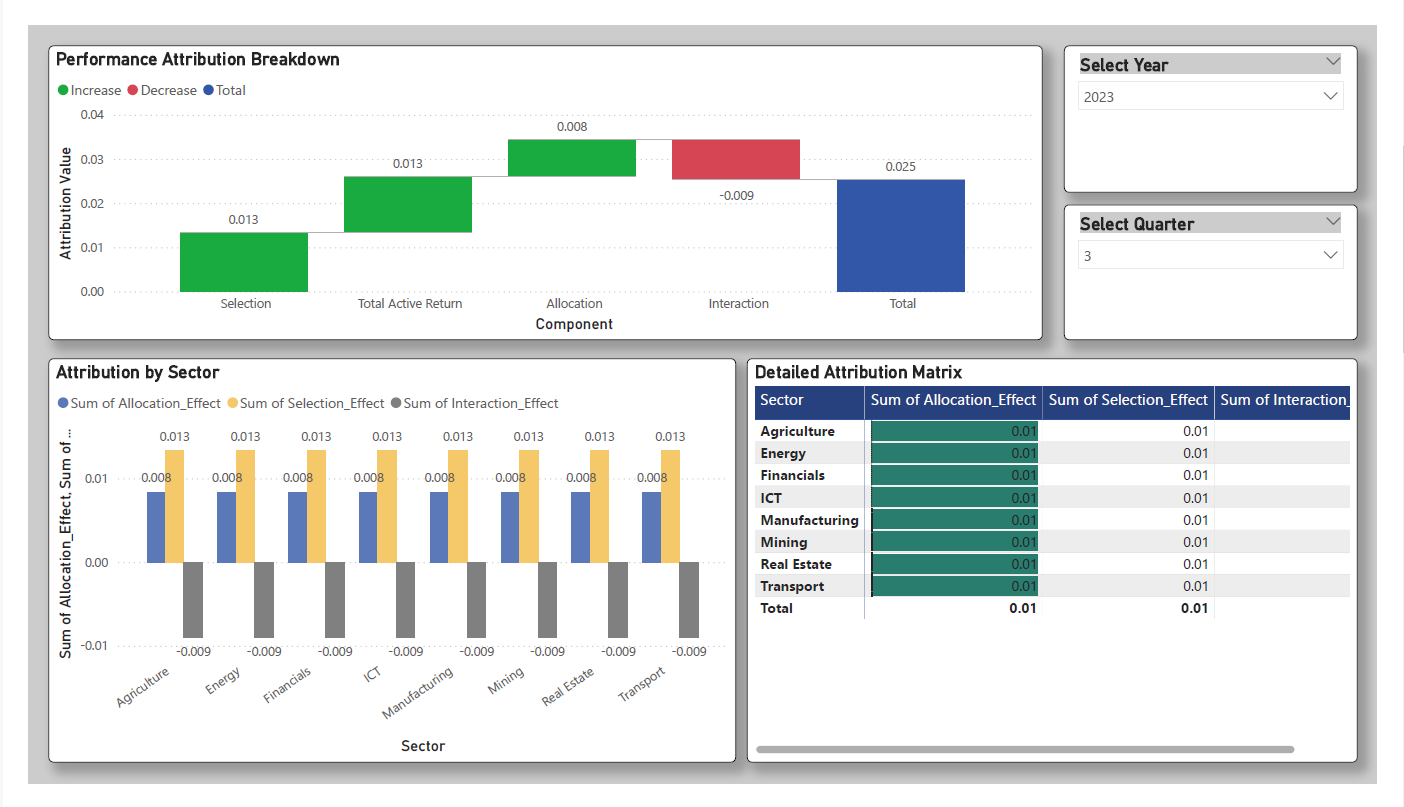

The dashboard page shown, as its layout file describes it:
{"tool":"powerbi","page":{"name":"PERFORMANCE ATTRIBUTION","canvas":[1280,720],"ordinal":1},"visuals":[{"type":"slicer","fields":{"Values":["powerbi_fact_attribution.Year"]},"box":[982.5,19.2,279.9,140],"z":0},{"type":"slicer","fields":{"Values":["powerbi_fact_attribution.Quarter"]},"box":[982.5,170.2,279.9,129],"z":1000},{"type":"waterfallChart","title":"Performance Attribution Breakdown","fields":{"Category":["Attribution Components.Component"],"Y":["Attribution Components.Attribution Value"]},"box":[19.2,19.2,944.1,279.9],"z":2000},{"type":"clusteredColumnChart","title":"Attribution by Sector","fields":{"Category":["powerbi_dim_sectors.Sector"],"Y":["Sum(powerbi_fact_attribution.Allocation_Effect)","Sum(powerbi_fact_attribution.Selection_Effect)","Sum(powerbi_fact_attribution.Interaction_Effect)"]},"box":[19.2,315.6,653.2,384.2],"z":3000},{"type":"pivotTable","title":"Detailed Attribution Matrix","fields":{"Rows":["powerbi_dim_sectors.Sector"],"Values":["Sum(powerbi_fact_attribution.Allocation_Effect)","Sum(powerbi_fact_attribution.Selection_Effect)","Sum(powerbi_fact_attribution.Interaction_Effect)"]},"box":[682,315.6,580.4,384.2],"z":4000}]}

Visuals, with their boxes in screenshot pixels (x1, y1, x2, y2), scaled from the page's 1280x720 canvas onto the 1404x807 screenshot:
slicer - powerbi_fact_attribution.Year: region(1078, 22, 1385, 178)
slicer - powerbi_fact_attribution.Quarter: region(1078, 191, 1385, 335)
"Performance Attribution Breakdown" waterfallChart: region(21, 22, 1057, 335)
"Attribution by Sector" clusteredColumnChart: region(21, 354, 738, 784)
"Detailed Attribution Matrix" pivotTable: region(748, 354, 1385, 784)
